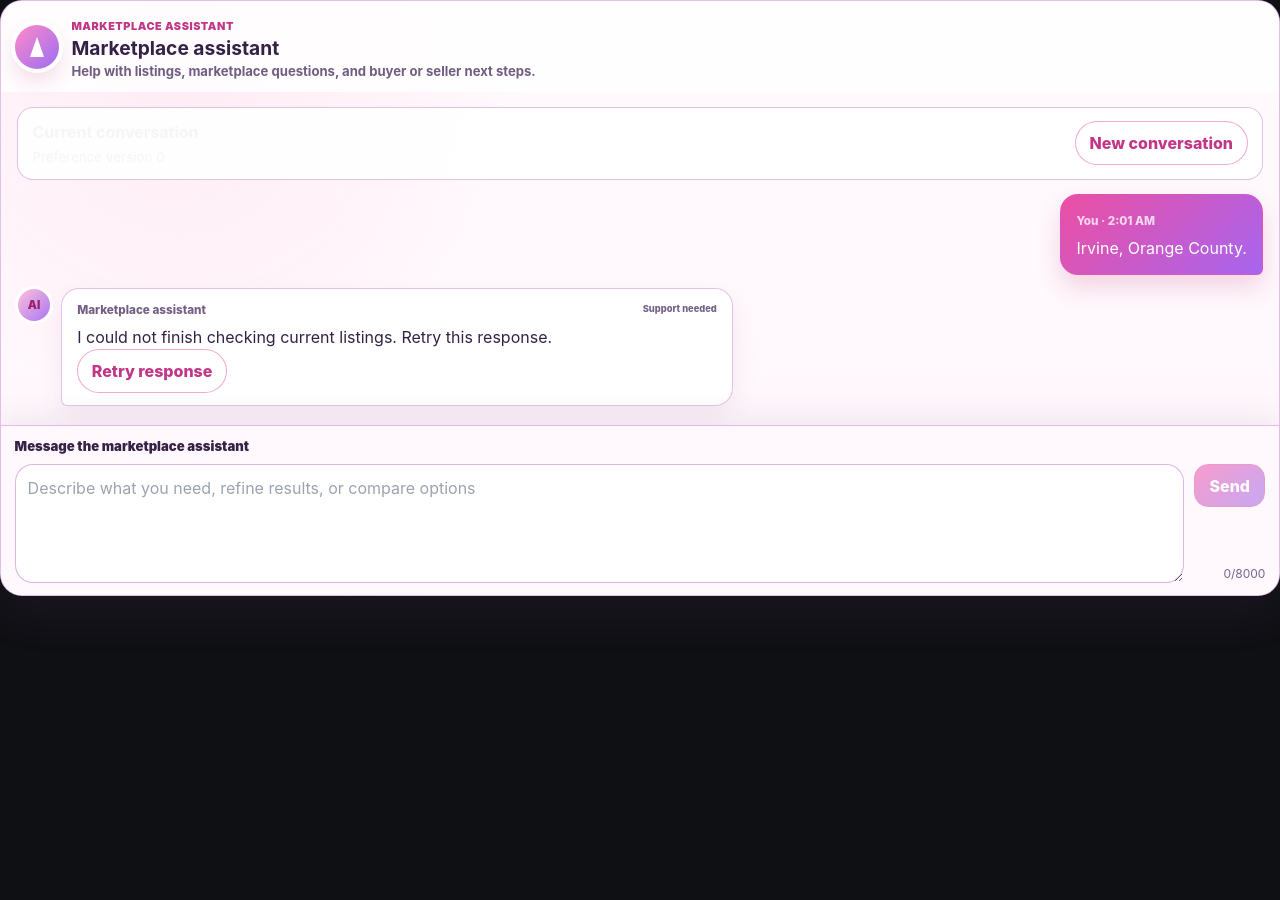
Test: AgentMarketplaceDiscoveryComponent › shows Retry response and reuses the committed USER message
Click the button with class "retry-response": click(152, 371) [77,349,227,392]
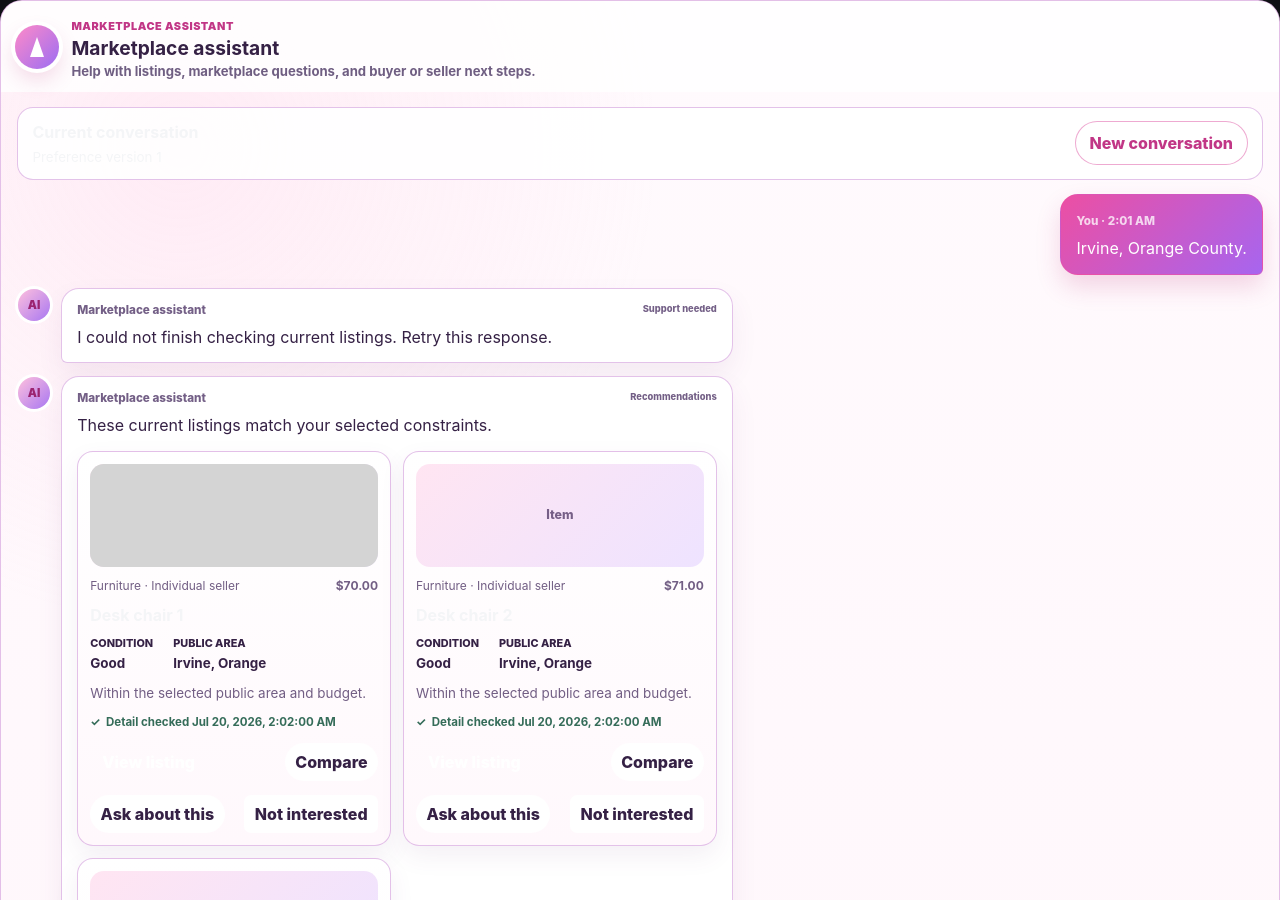
Expected: the number of elements with class "user-message" is 1, [1060,194,1263,274]
Expected: the text "These current listings match your selected constraints." is shown, [77,415,492,435]
